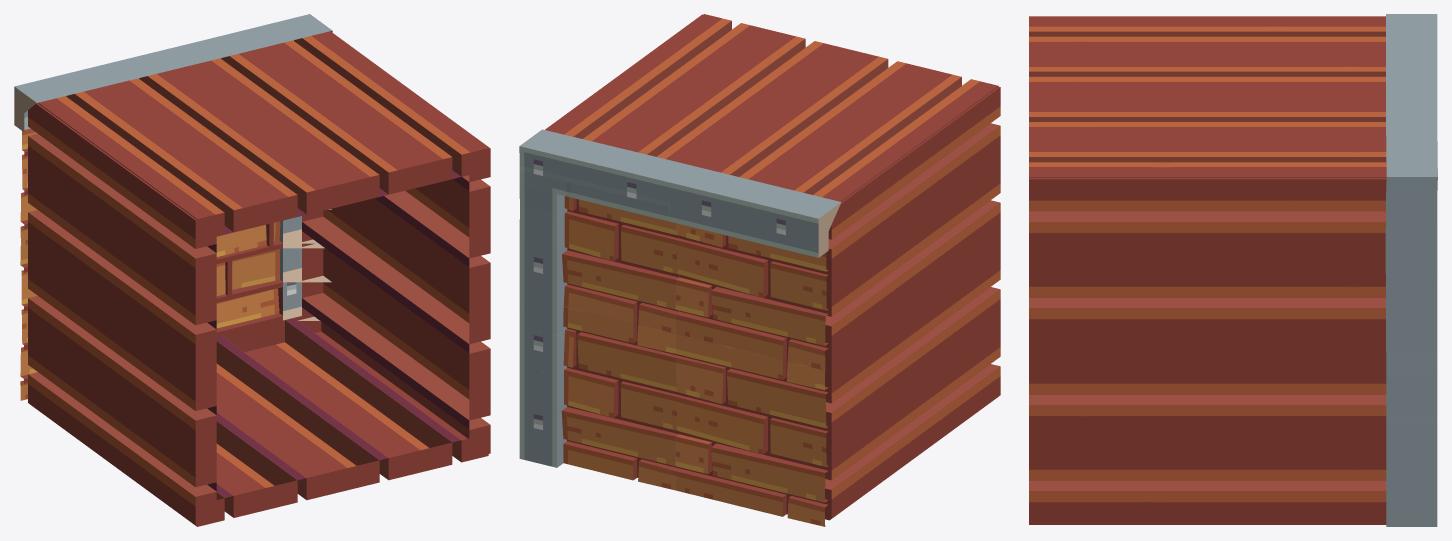
Rendered from CornerTLKayu.fbx.
3 renders of one model, left to right at view 1: azimuth 30°, elevation 25°; view 2: azimuth 150°, elevation 25°; view 3: azimuth 270°, elevation 25°, orthographic. The views are drawn at different scales.
Visible parts, largest first — view 1: CornertTLKayu; view 2: CornertTLKayu; view 3: CornertTLKayu.
Boxes of the visible parts, box(x1,y1,x2,y2) form: CornertTLKayu: box(14, 14, 490, 526); CornertTLKayu: box(519, 14, 1000, 526); CornertTLKayu: box(1029, 14, 1437, 526).
Size of the model in its own units: 94.81 by 94.81 by 100.
